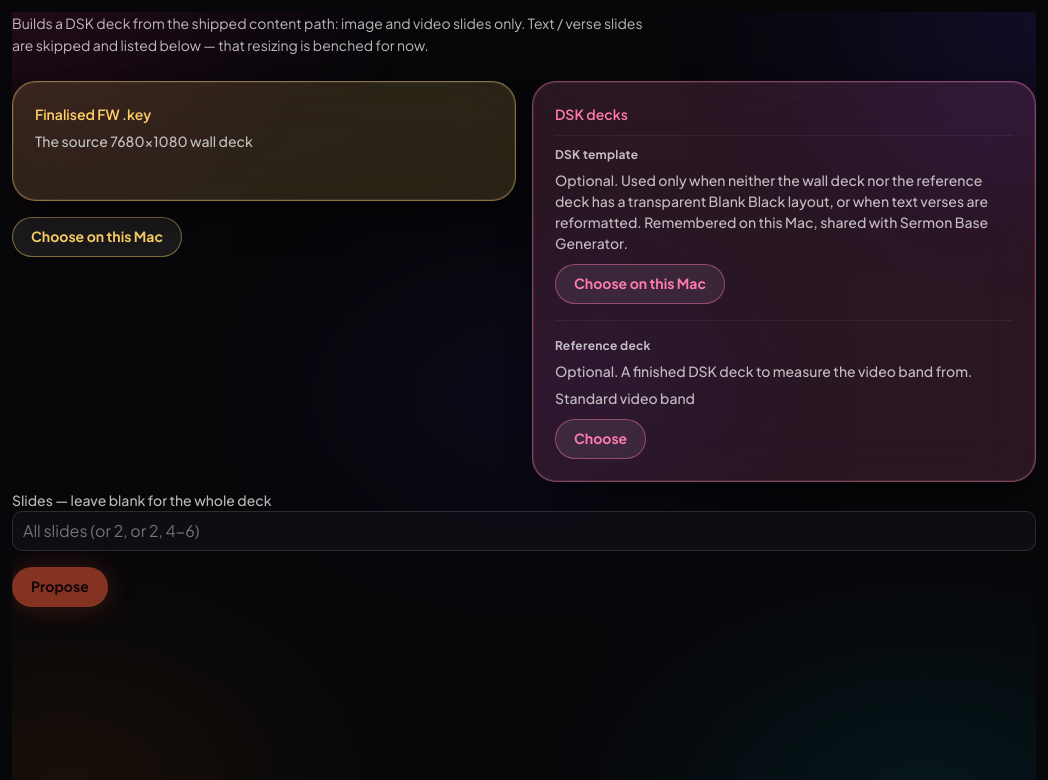
Test case: DskGenerator reference deck › shows the chosen reference file and a Clear action, then clears back to blank
Step 1. Click the button with aria-label "Choose reference deck" → (601, 439), box [555,419,646,459]
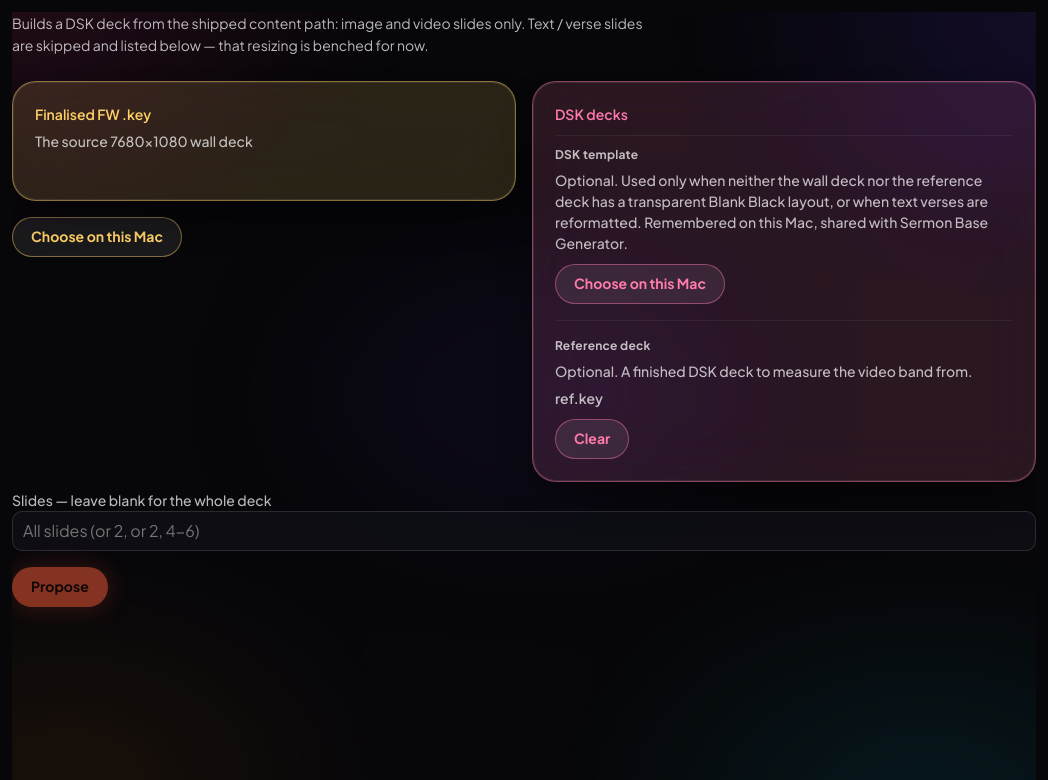
Now the text "ref.key" is shown, box [555,389,603,407]
Now the button with aria-label "Clear reference deck" is shown
Step 2. Click the button with aria-label "Clear reference deck" → (592, 439), box [555,419,629,459]
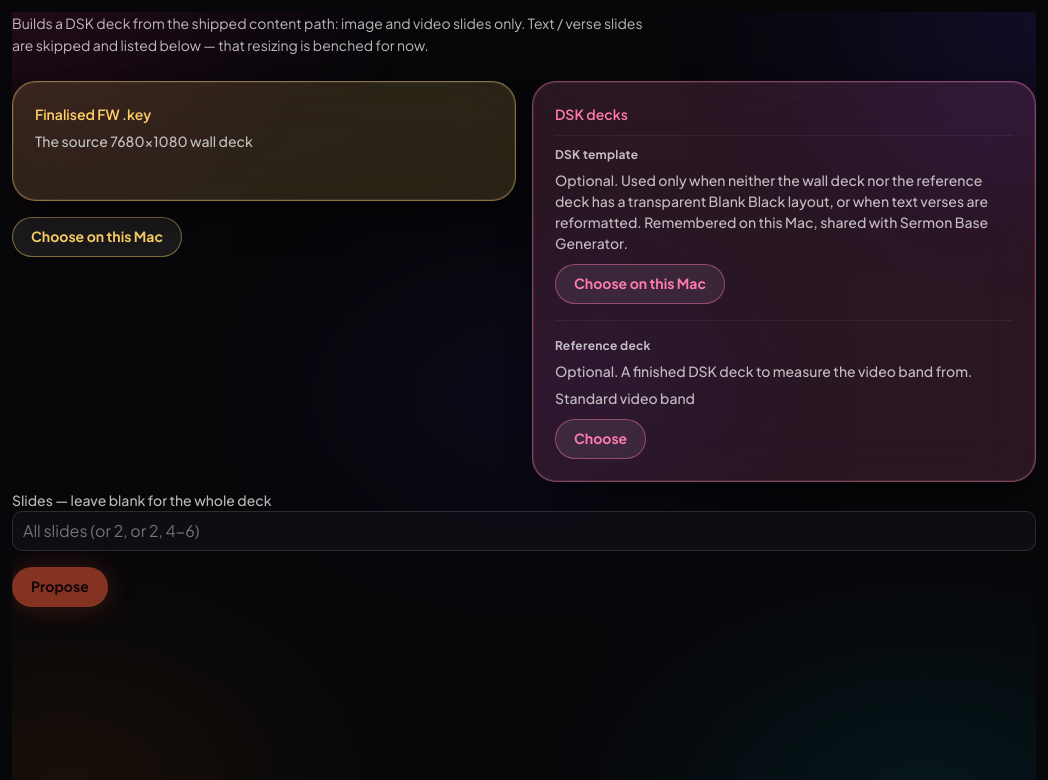
Now the text "Standard video band" is shown, box [555,389,695,407]
